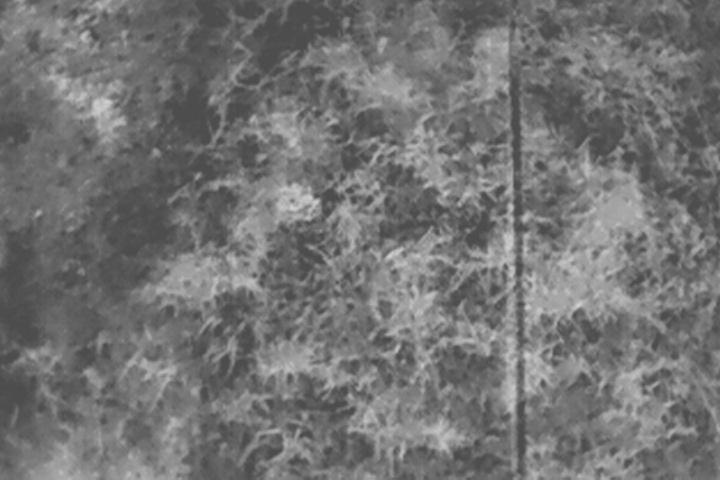landmine: (275, 181, 321, 220)
